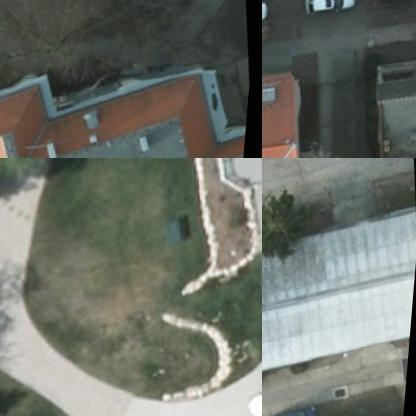car: (302, 0, 358, 18), (264, 405, 320, 415)
